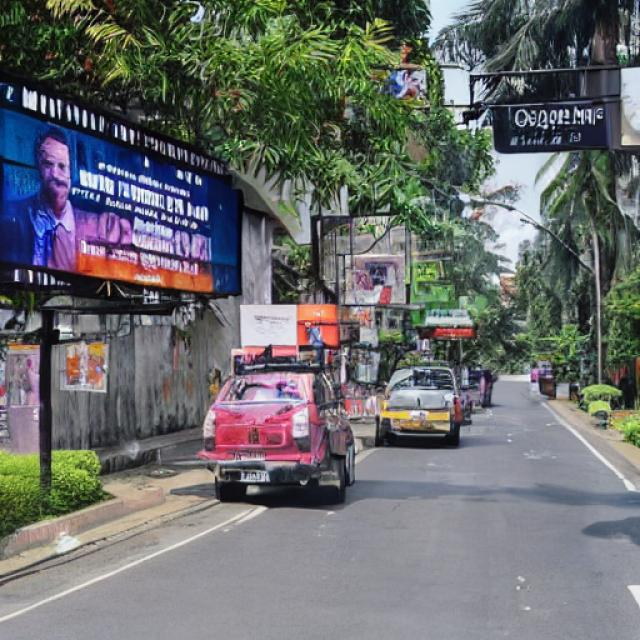Billboard: (0, 83, 242, 300)
